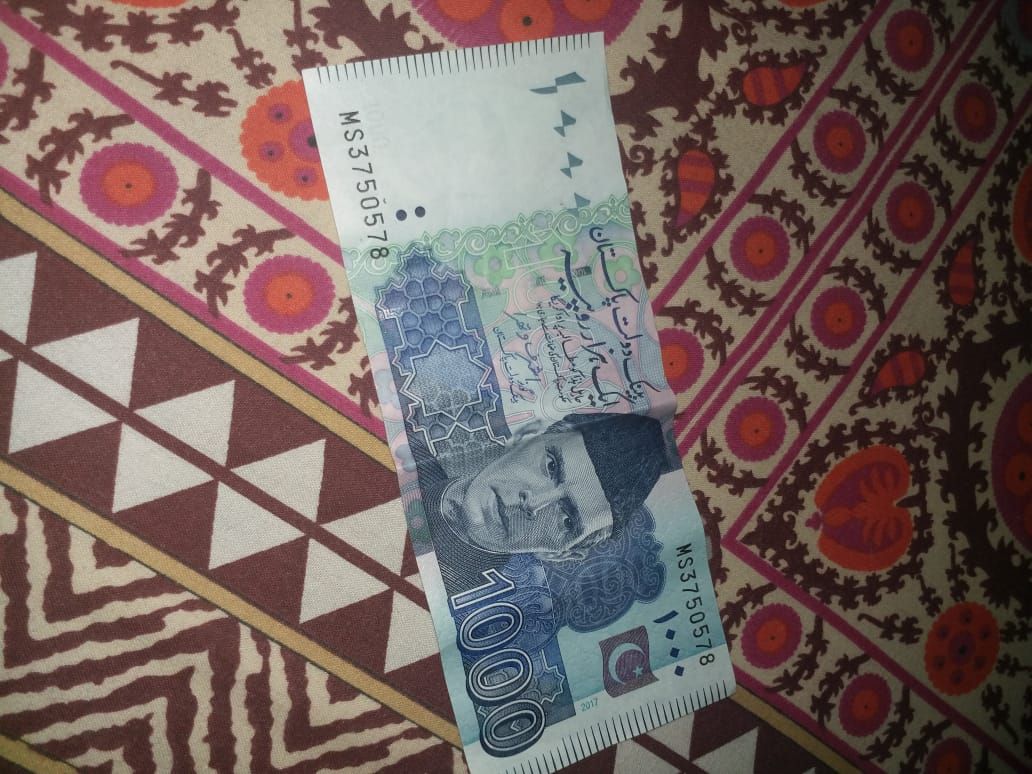1000 rupee: (294, 26, 770, 774)
